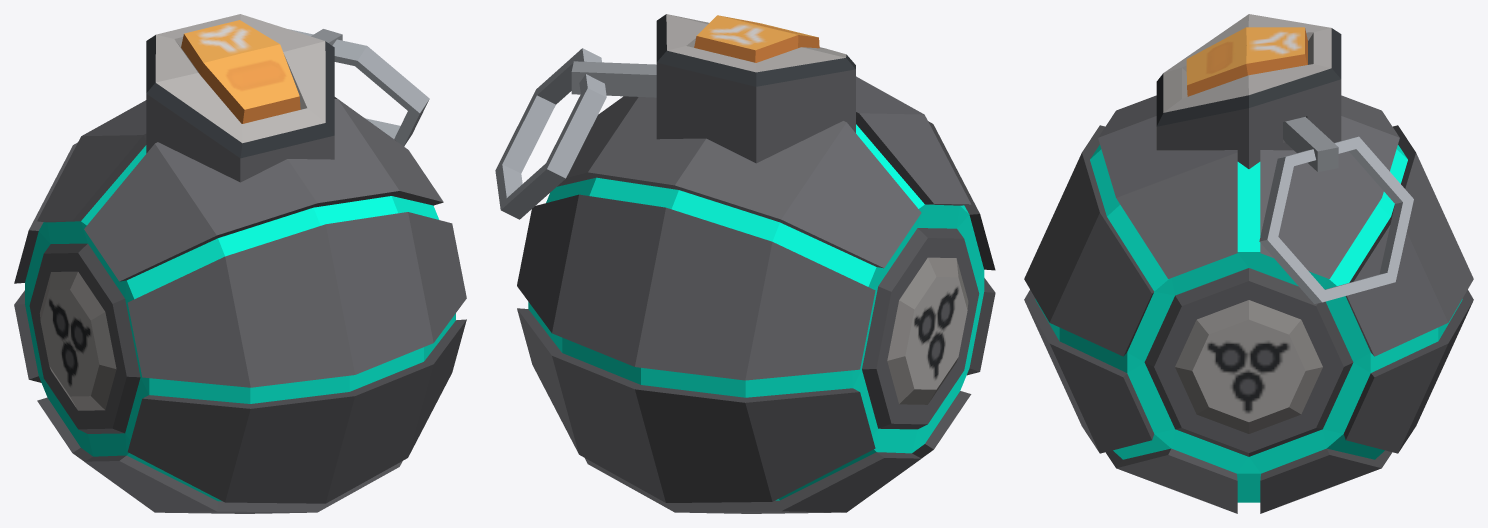
File: SM_Wep_Grenade_01.fbx
The picture shows the model from 3 angles, left to right: view 1: azimuth 30°, elevation 25°; view 2: azimuth 150°, elevation 25°; view 3: azimuth 270°, elevation 25°; orthographic projection. The views are drawn at different scales.
Visible parts, largest first — view 1: SM_Wep_Grenade_01; view 2: SM_Wep_Grenade_01; view 3: SM_Wep_Grenade_01.
Boxes of the visible parts, x1,y1,x2,y2 form: SM_Wep_Grenade_01: [14, 14, 466, 513]; SM_Wep_Grenade_01: [495, 14, 995, 513]; SM_Wep_Grenade_01: [1024, 14, 1473, 513].
Size of the model in its own units: 10.99 by 12.78 by 11.51.
